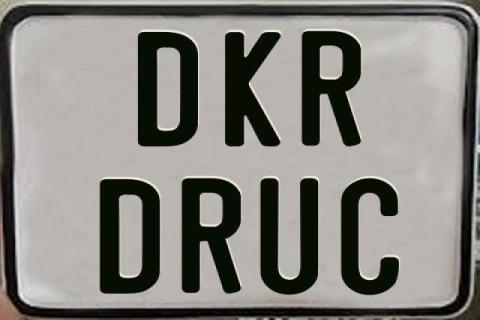C: (338, 176, 396, 294)
D: (136, 30, 200, 146), (98, 177, 162, 291)
K: (225, 30, 286, 144)
R: (180, 176, 244, 292), (300, 29, 359, 149)
U: (259, 177, 323, 297)
